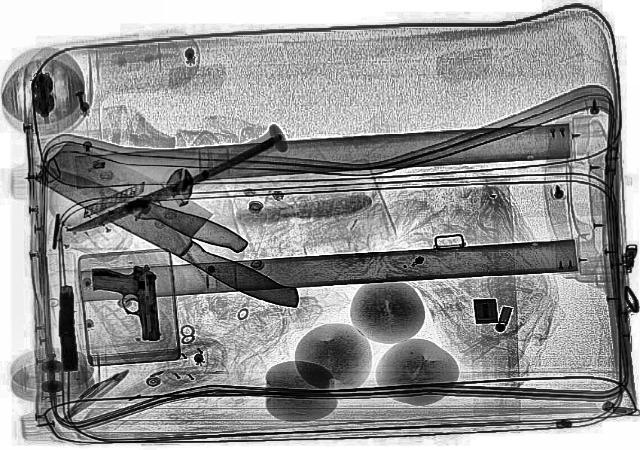Gun: (89, 264, 159, 340), (55, 284, 77, 370)
Knife: (19, 136, 334, 314), (27, 154, 253, 256), (62, 138, 282, 238)
